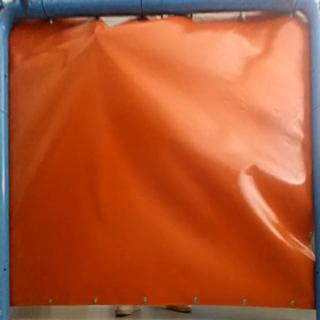Hit-hRxx: (88, 28, 102, 41)
